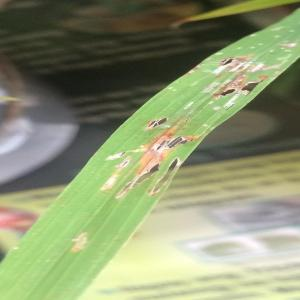Rice_Blast: (150, 158, 196, 198), (141, 105, 175, 138), (238, 75, 269, 109), (66, 233, 98, 262), (106, 144, 136, 169), (211, 78, 240, 101), (220, 51, 249, 72)
